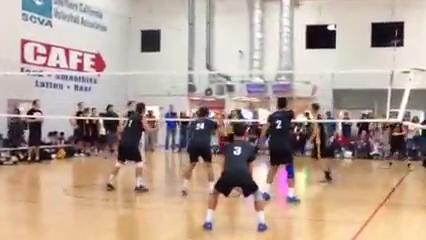Player: (203, 123, 266, 231), (259, 97, 309, 202), (106, 103, 150, 191), (182, 107, 222, 195), (310, 122, 331, 182)
